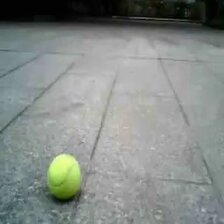tennis: (47, 154, 80, 196)
